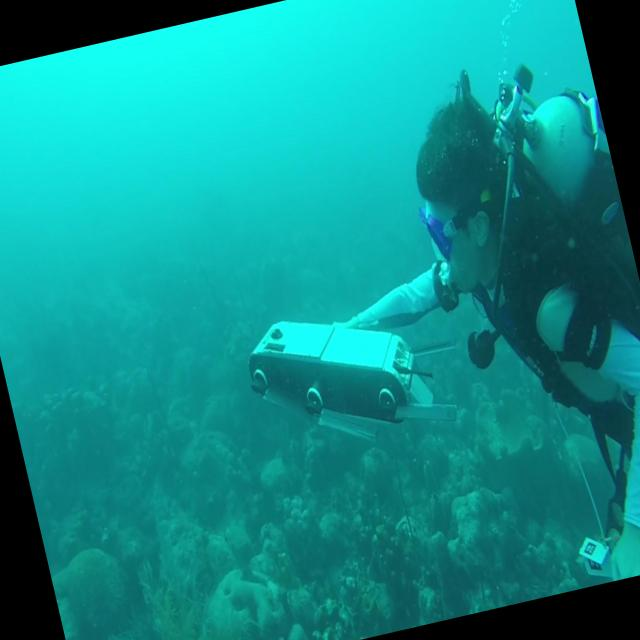human: (291, 40, 640, 627)
